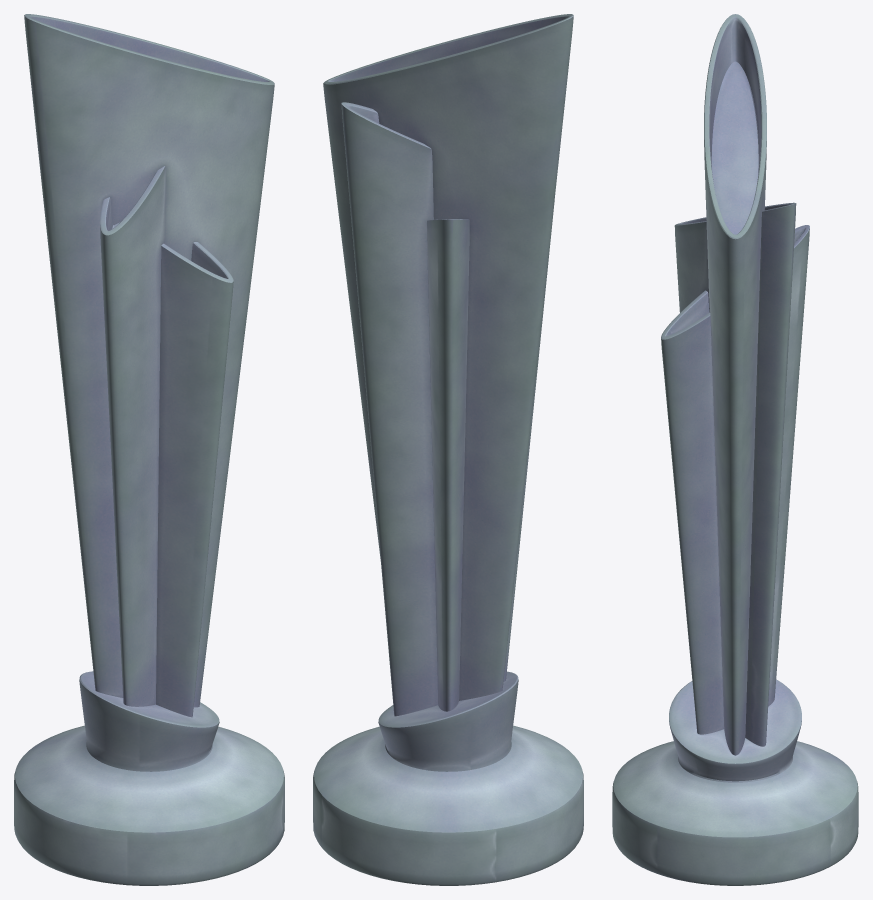
File: t20i trophy tex.fbx
The picture shows the model from 3 angles, left to right: view 1: azimuth 30°, elevation 25°; view 2: azimuth 150°, elevation 25°; view 3: azimuth 270°, elevation 25°; orthographic projection. The views are drawn at different scales.
Visible parts, largest first — view 1: Cylinder; view 2: Cylinder; view 3: Cylinder.
Part boxes in pixels (<box>): Cylinder: <box>14,14,284,885</box>; Cylinder: <box>313,14,583,885</box>; Cylinder: <box>612,14,858,885</box>.
Size of the model in its own units: 27.67 by 89.81 by 26.14.
1 material, 1 textured.
